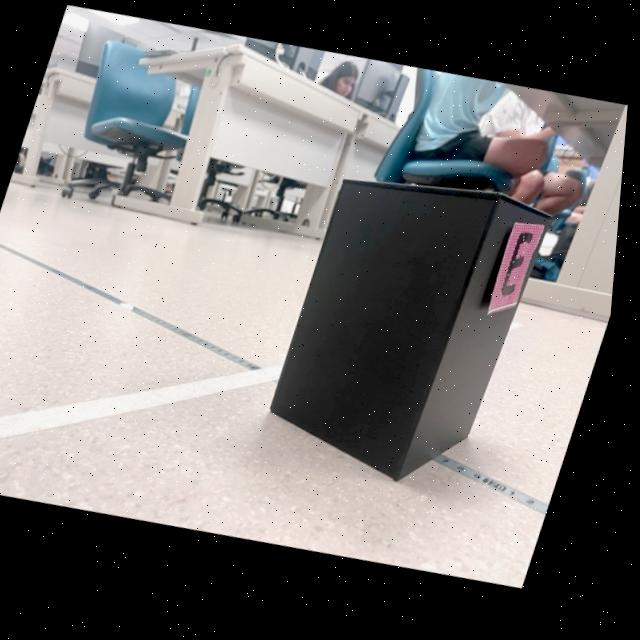E: (506, 242, 537, 305)
